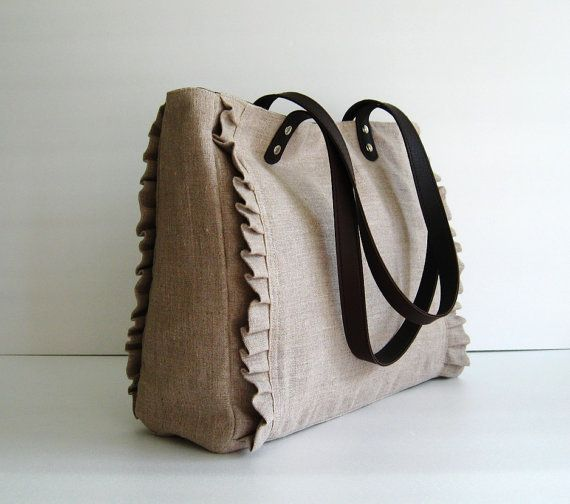nylon: (126, 87, 472, 454)
